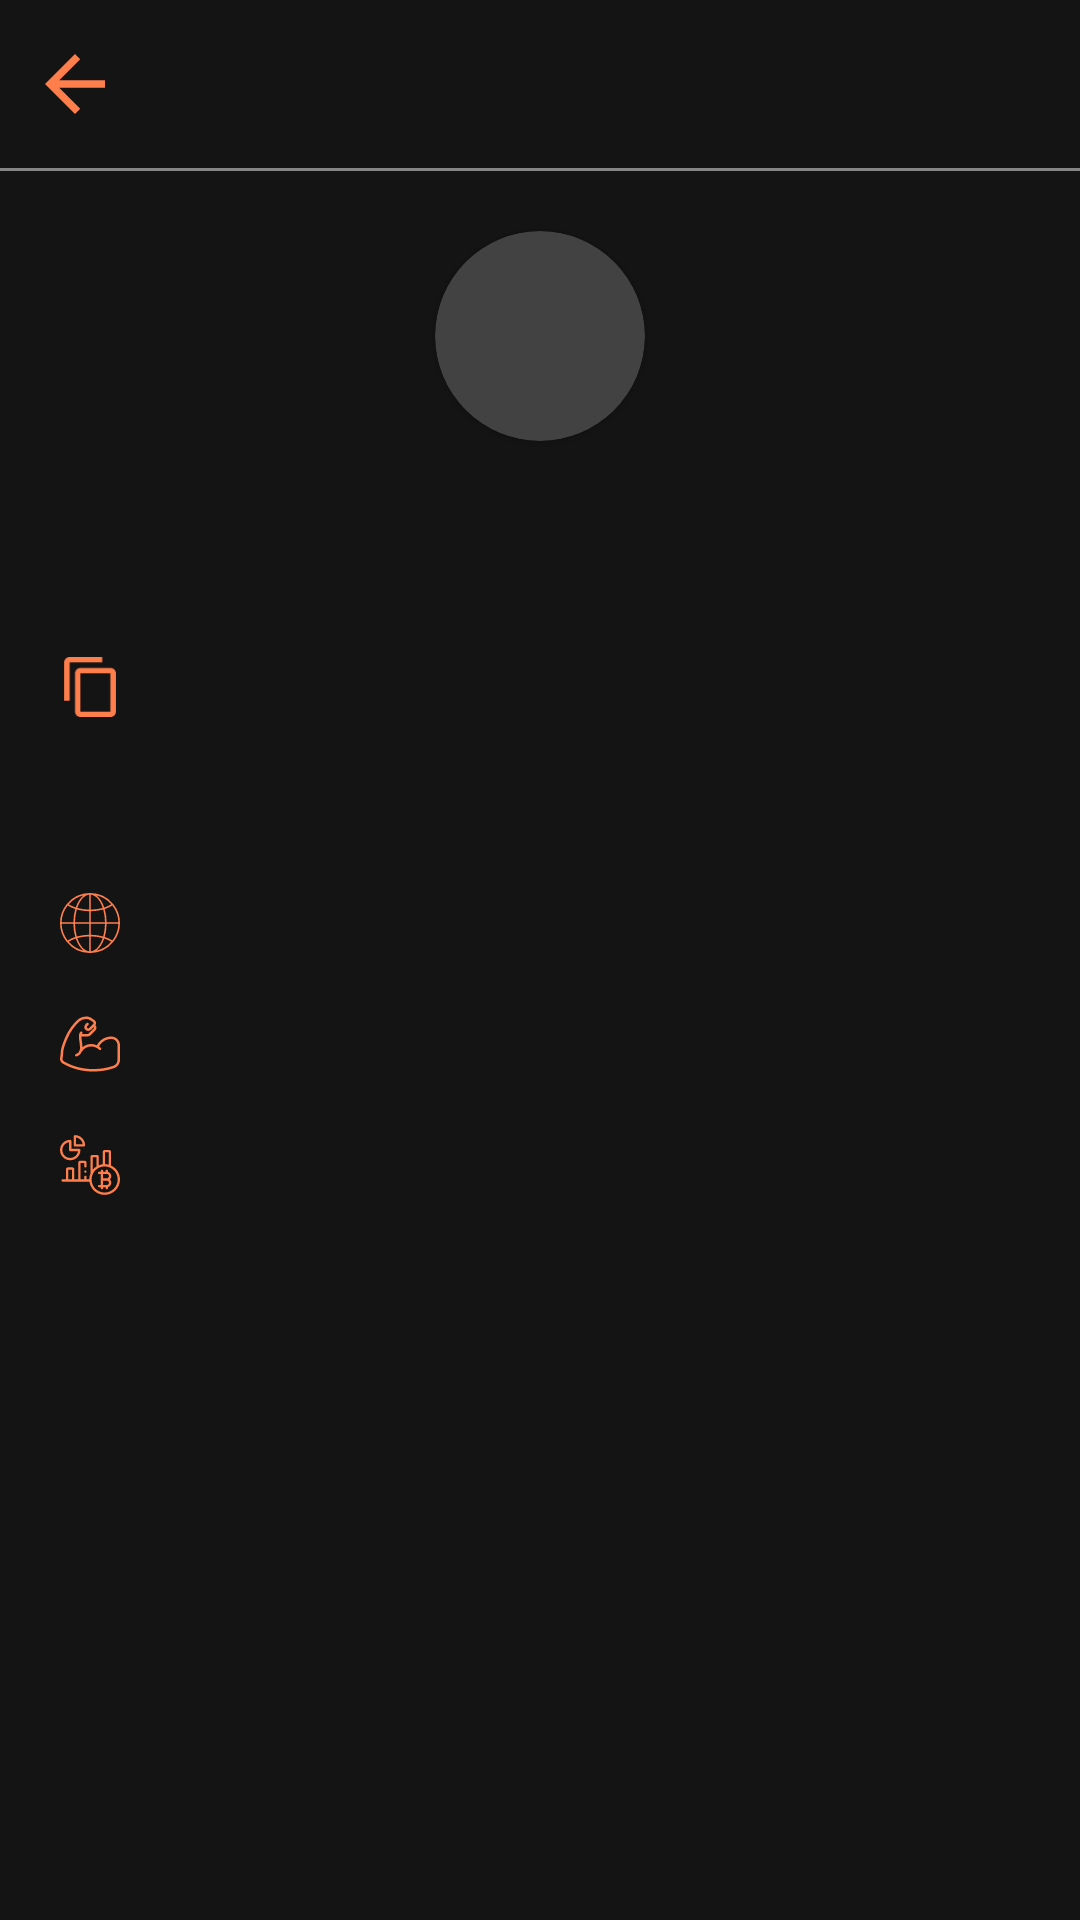

Point at icon controls on the screen. Image size 1080 x 1920, points as (x=x, y=y).
back: (x=75, y=84)
web site: (x=90, y=923)
